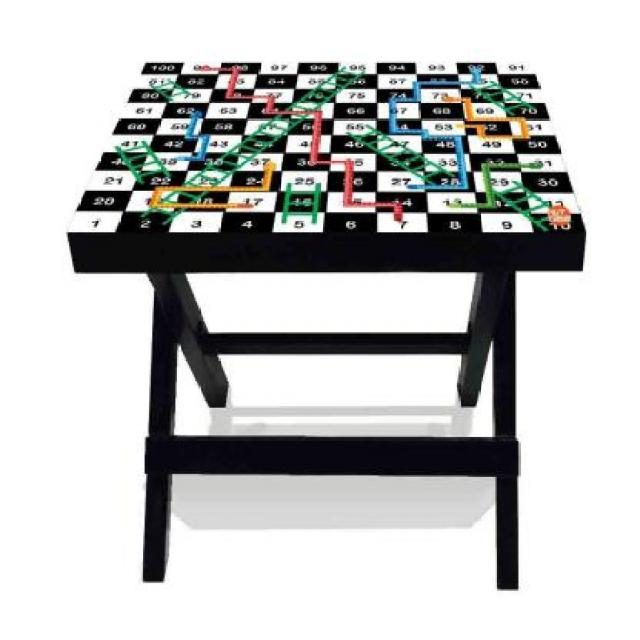table: (65, 58, 586, 590)
